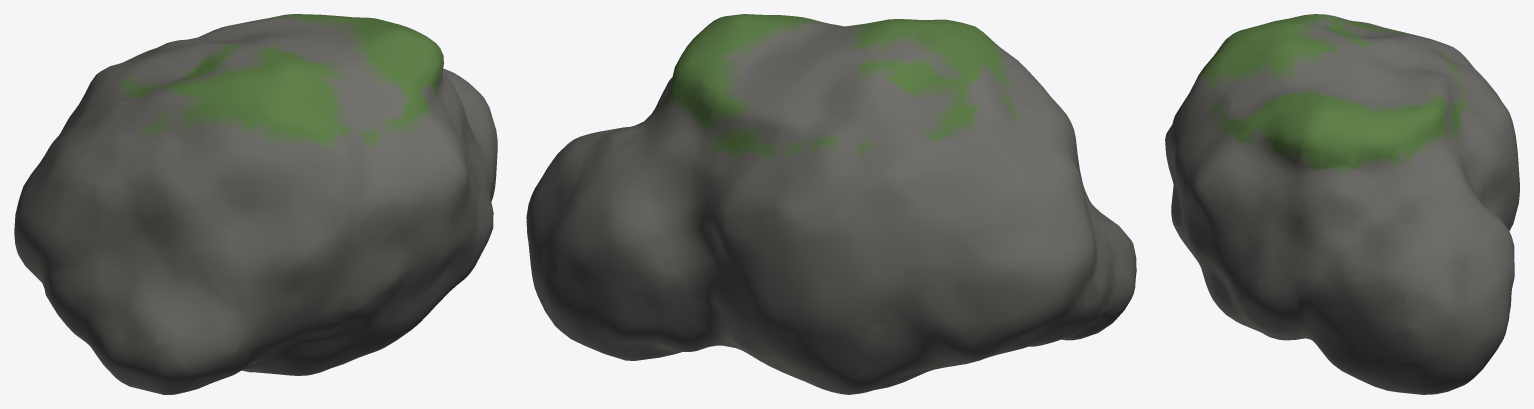
File: rock.glb
3 views of the same model, side by side, from view 1: azimuth 30°, elevation 25°; view 2: azimuth 150°, elevation 25°; view 3: azimuth 270°, elevation 25° (orthographic). The views are drawn at different scales.
Parts seen in each view (by area): view 1: rock; view 2: rock; view 3: rock.
Boxes of the visible parts, box(x1,y1,x2,y2) form: rock: box(14, 14, 497, 394); rock: box(526, 14, 1136, 394); rock: box(1165, 14, 1519, 394).
Size of the model in its own units: 1.42 by 0.8404 by 0.9975.
